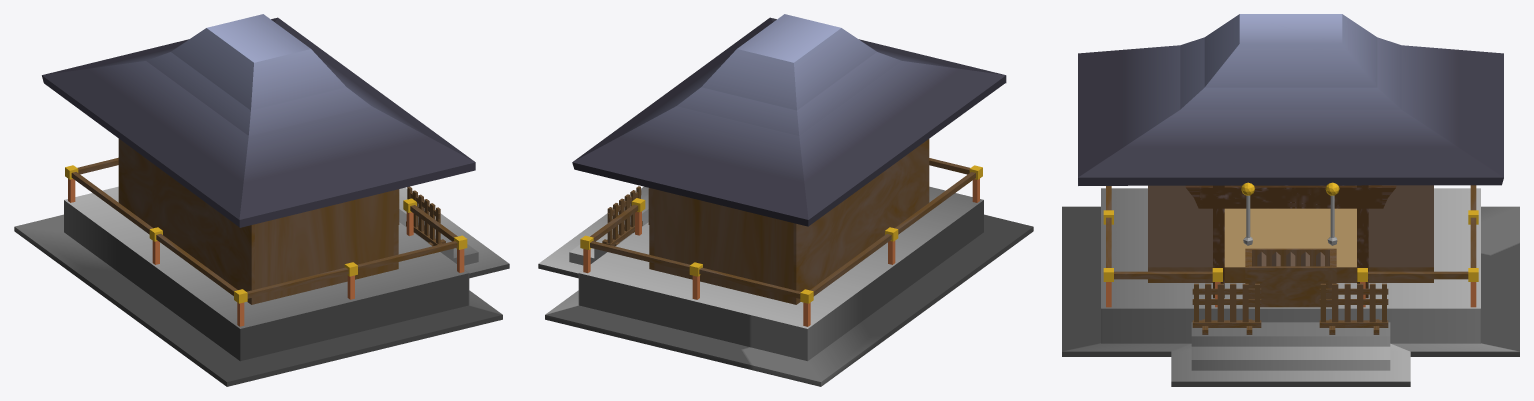
The model's file is temple.gltf.
The picture shows the model from 3 angles, left to right: view 1: azimuth 30°, elevation 25°; view 2: azimuth 150°, elevation 25°; view 3: azimuth 270°, elevation 25°; orthographic projection. The views are drawn at different scales.
Parts seen in each view (by area): view 1: Roof, Ground, temple, longFence, longFence.002, Fence, longFence.003; view 2: Roof, Ground, temple, longFence.001, longFence.002, Fence.001, longFence.004; view 3: Roof, Ground, temple, ToriGate, MoneyBox, Fence.001, Fence, longFence.004, longFence.003, longFence.001, longFence.
Part boxes in pixels (<box>): Roof: <box>42,14,475,227</box>; Ground: <box>14,186,509,386</box>; temple: <box>118,139,398,304</box>; longFence: <box>246,241,457,298</box>; longFence.002: <box>71,172,237,295</box>; Fence: <box>406,186,445,246</box>; longFence.003: <box>410,205,457,241</box>; Roof: <box>572,14,1006,226</box>; Ground: <box>538,186,1033,386</box>; temple: <box>649,139,929,304</box>; longFence.001: <box>590,241,800,298</box>; longFence.002: <box>810,172,975,296</box>; Fence.001: <box>602,186,642,246</box>; longFence.004: <box>590,204,638,241</box>; Roof: <box>1078,14,1503,185</box>; Ground: <box>1062,188,1519,386</box>; temple: <box>1148,185,1433,282</box>; ToriGate: <box>1185,185,1396,298</box>; MoneyBox: <box>1245,248,1336,307</box>; Fence.001: <box>1319,283,1388,334</box>; Fence: <box>1192,283,1261,334</box>; longFence.004: <box>1368,271,1468,279</box>; longFence.003: <box>1114,271,1212,279</box>; longFence.001: <box>1470,185,1476,267</box>; longFence: <box>1106,186,1111,267</box>.
Bounding box in the file's own units: 36.21 × 24.62 × 40.
10 materials, 4 textured.
